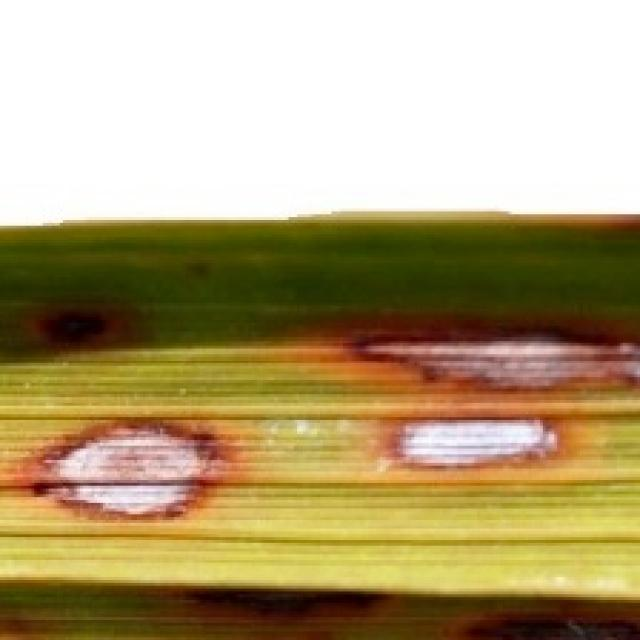Unhealthy: (7, 409, 249, 533), (299, 318, 640, 401), (376, 403, 576, 478), (32, 300, 130, 352)
